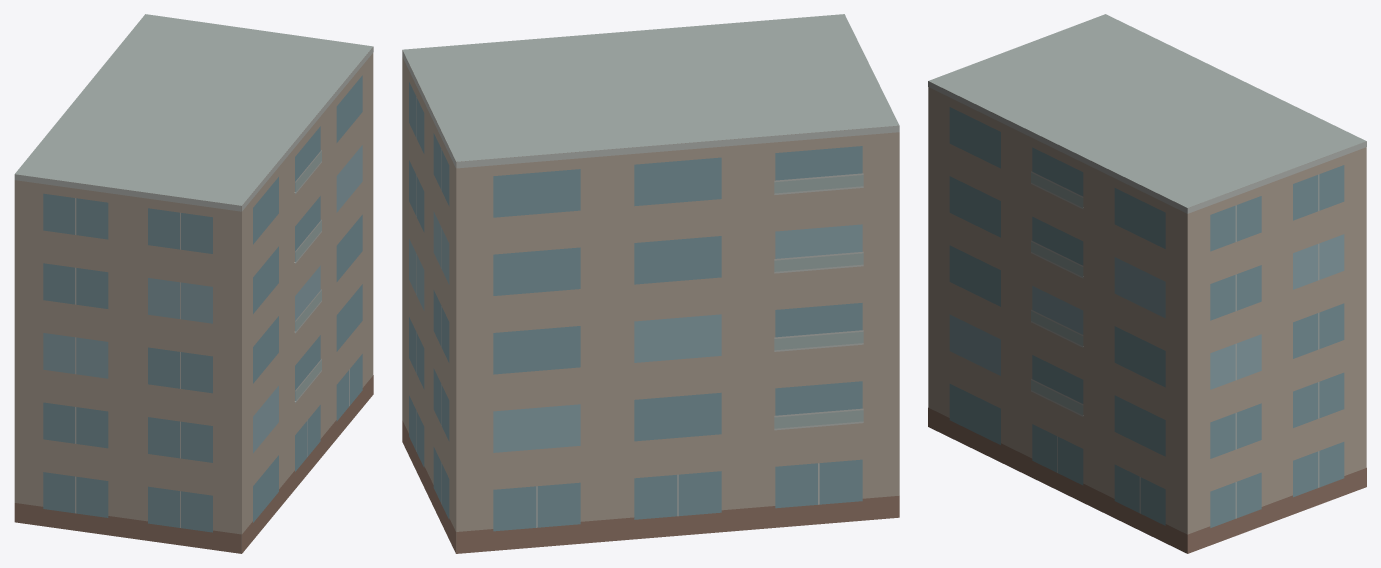
File: survey-upis-32930124.glb
3 views of the same model, side by side, from view 1: azimuth 30°, elevation 25°; view 2: azimuth 150°, elevation 25°; view 3: azimuth 270°, elevation 25° (orthographic). The views are drawn at different scales.
Parts seen in each view (by area): view 1: survey-upis-32930124.tmp; view 2: survey-upis-32930124.tmp; view 3: survey-upis-32930124.tmp.
Boxes of the visible parts, <box> form: survey-upis-32930124.tmp: <box>14,14,373,553</box>; survey-upis-32930124.tmp: <box>402,14,899,553</box>; survey-upis-32930124.tmp: <box>928,14,1366,553</box>.
Bounding box in the file's own units: 17.33 × 14.4 × 16.56.
